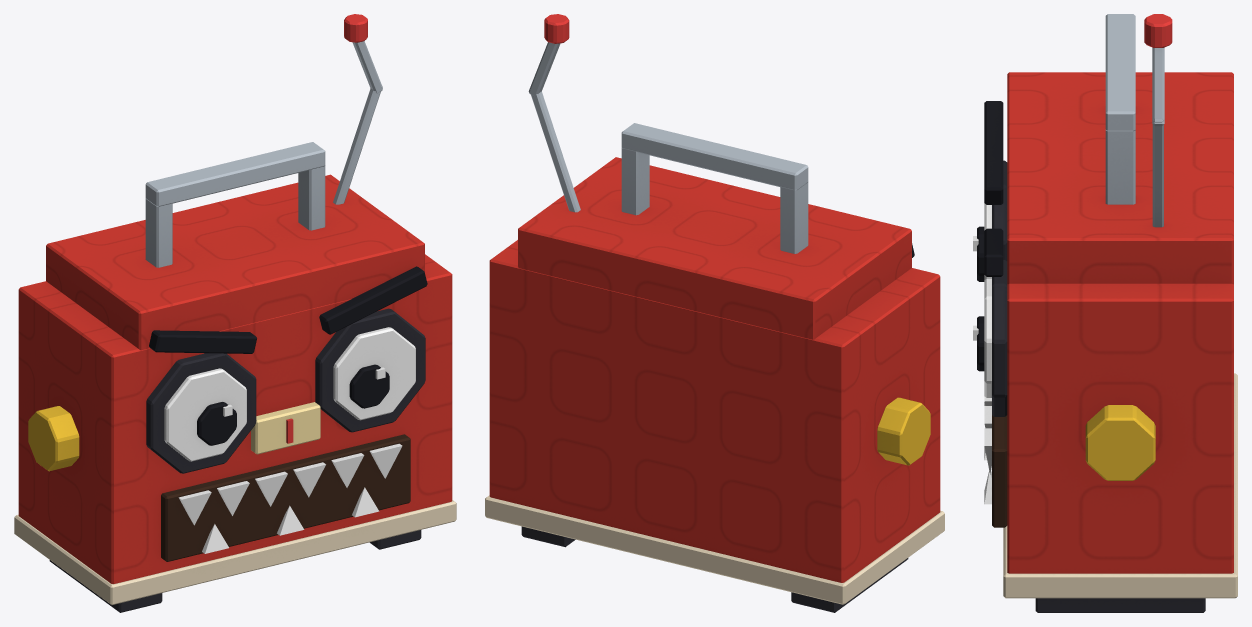
The model's file is MonsterRadio.fbx.
The picture shows the model from 3 angles, left to right: view 1: azimuth 30°, elevation 25°; view 2: azimuth 150°, elevation 25°; view 3: azimuth 270°, elevation 25°; orthographic projection. The views are drawn at different scales.
Visible parts, largest first — view 1: Art_MonsterRadio; view 2: Art_MonsterRadio; view 3: Art_MonsterRadio.
Boxes of the visible parts, bbox=[...] form: Art_MonsterRadio: bbox=[14, 14, 456, 612]; Art_MonsterRadio: bbox=[485, 14, 944, 612]; Art_MonsterRadio: bbox=[973, 14, 1237, 612].
Bounding box in the file's own units: 2.84 × 3.42 × 1.4.
